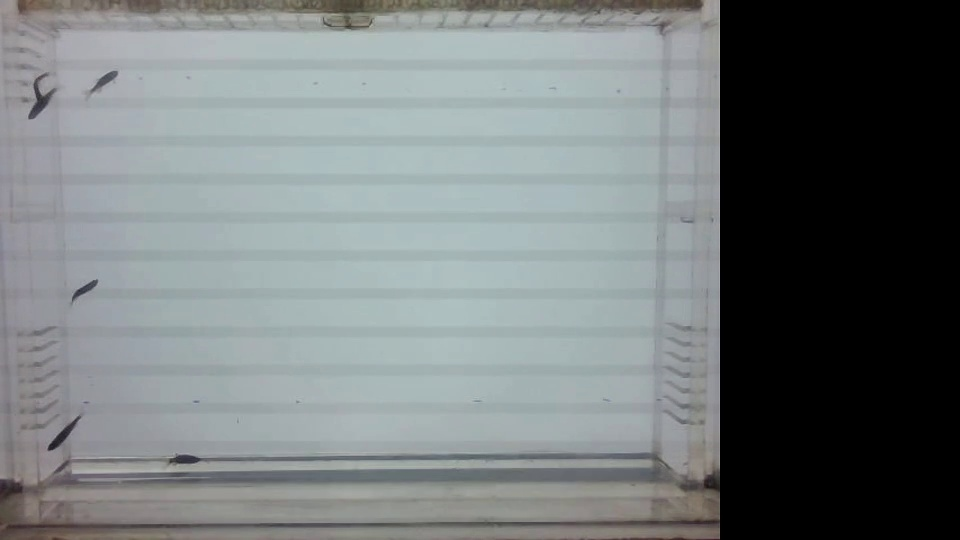fish: (88, 64, 126, 104), (60, 272, 106, 305), (44, 420, 85, 452), (24, 88, 61, 122), (28, 68, 53, 108), (164, 449, 208, 470)
